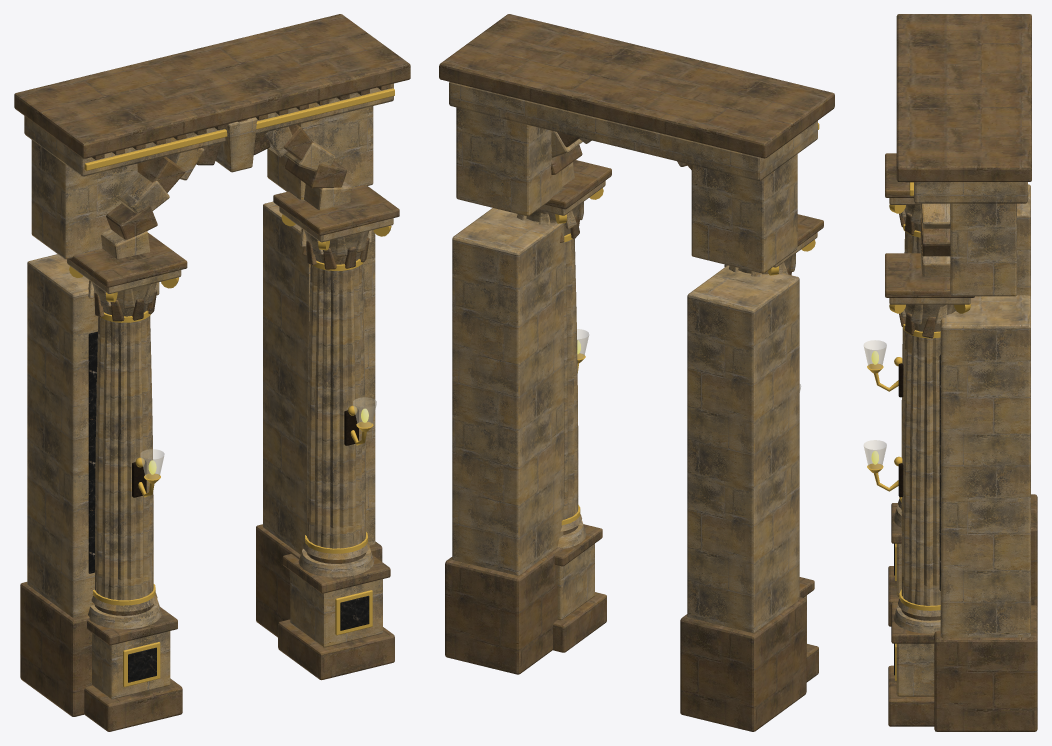
The model's file is dresden_pillar.glb.
3 views of the same model, side by side, from view 1: azimuth 30°, elevation 25°; view 2: azimuth 150°, elevation 25°; view 3: azimuth 270°, elevation 25° (orthographic). The views are drawn at different scales.
Parts seen in each view (by area): view 1: Sandstone_Column, Gold_Trim; view 2: Sandstone_Column, Gold_Trim; view 3: Sandstone_Column, Gold_Trim.
Part boxes in pixels (bbox=[...]): Sandstone_Column: bbox=[14, 14, 410, 731]; Gold_Trim: bbox=[69, 88, 394, 687]; Sandstone_Column: bbox=[439, 14, 834, 731]; Gold_Trim: bbox=[555, 123, 819, 525]; Sandstone_Column: bbox=[885, 14, 1037, 731]; Gold_Trim: bbox=[863, 182, 970, 681].
Bounding box in the file's own units: 3.4 × 5.85 × 1.62.
7 materials, 4 textured.
